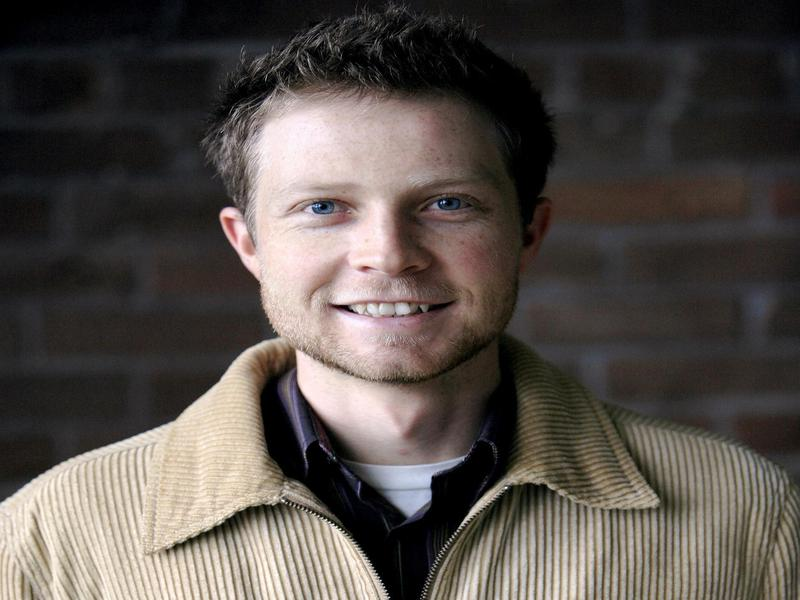person: (3, 5, 799, 600)
